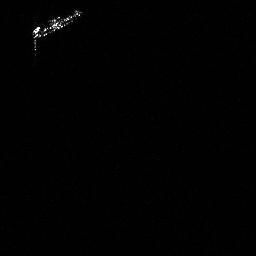ship: (32, 11, 80, 38)
